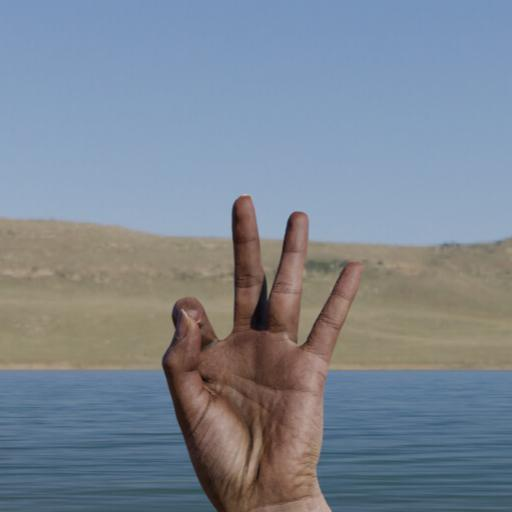F: (136, 181, 381, 512)
